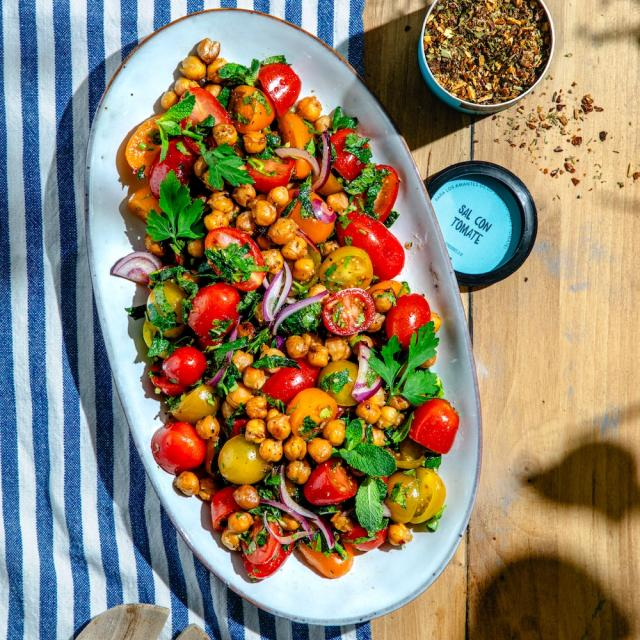garbanzos: (168, 36, 218, 80)
